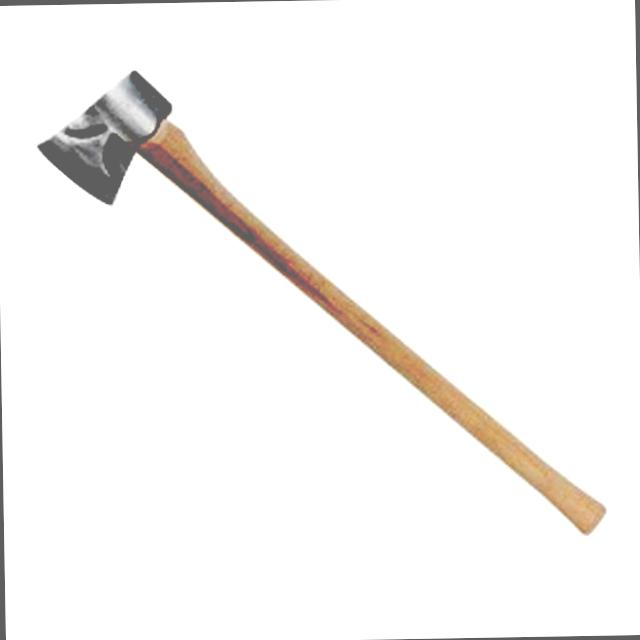ax: (22, 44, 620, 553)
